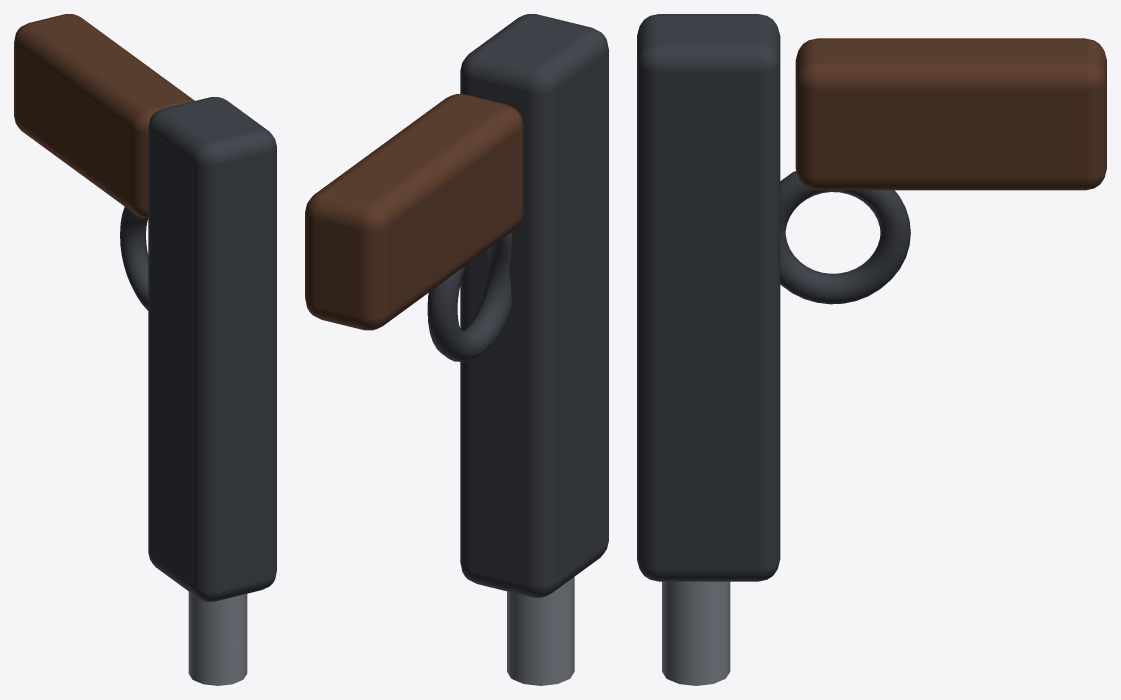
File: kid-gun.glb
The picture shows the model from 3 angles, left to right: view 1: azimuth 30°, elevation 25°; view 2: azimuth 150°, elevation 25°; view 3: azimuth 270°, elevation 25°; orthographic projection. The views are drawn at different scales.
Visible parts, largest first — view 1: kid-gun; view 2: kid-gun; view 3: kid-gun.
Boxes of the visible parts, x1=… form: kid-gun: x1=14, y1=14, x2=276, y2=685; kid-gun: x1=305, y1=14, x2=608, y2=685; kid-gun: x1=637, y1=14, x2=1106, y2=685.
Size of the model in its own units: 0.035 by 0.2275 by 0.151.
